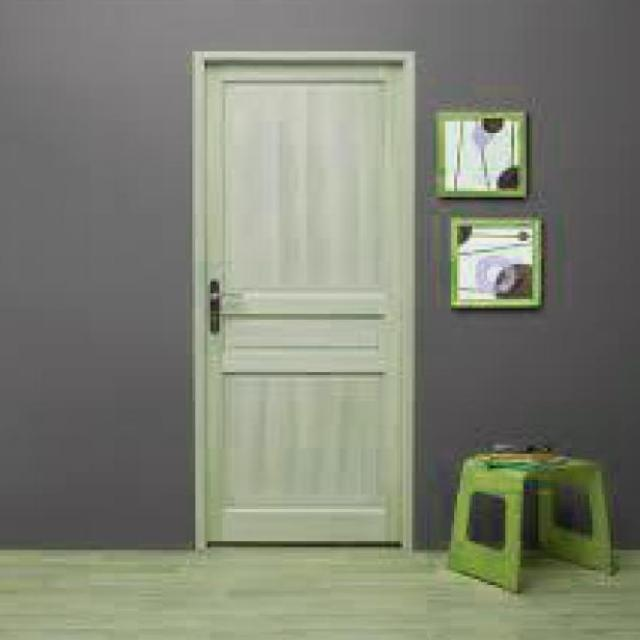door: (196, 50, 415, 548)
